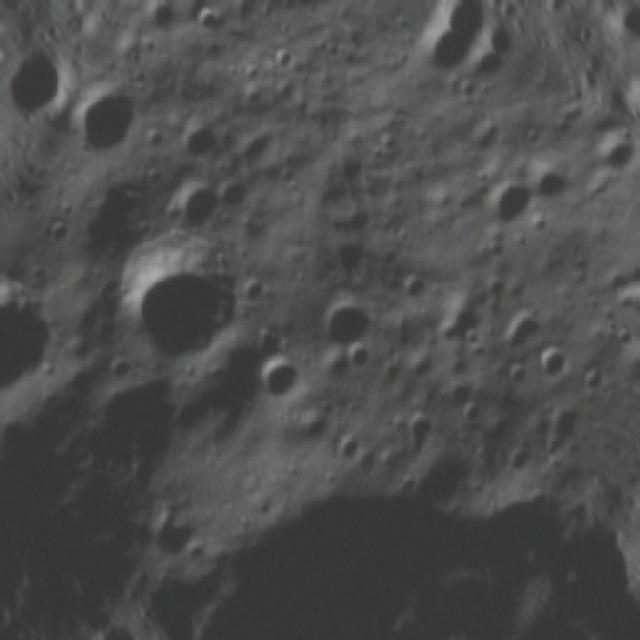crater: (68, 355, 210, 499), (114, 235, 254, 379), (0, 267, 85, 421), (55, 69, 158, 177), (138, 488, 235, 582), (164, 162, 245, 243), (476, 172, 546, 246), (491, 288, 560, 360), (308, 288, 379, 357), (252, 344, 312, 410), (415, 21, 479, 81), (526, 153, 586, 216), (526, 325, 588, 384), (581, 130, 640, 190), (178, 108, 236, 169), (392, 405, 450, 460), (391, 262, 446, 316), (135, 0, 194, 48), (327, 427, 371, 478), (606, 270, 640, 332), (410, 344, 452, 388), (336, 332, 378, 373)
